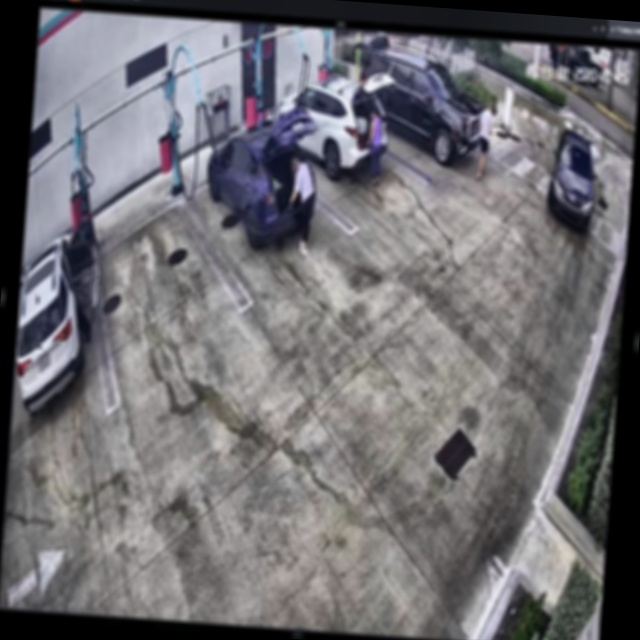Car: (201, 108, 319, 254), (355, 44, 489, 164), (273, 67, 395, 178)
